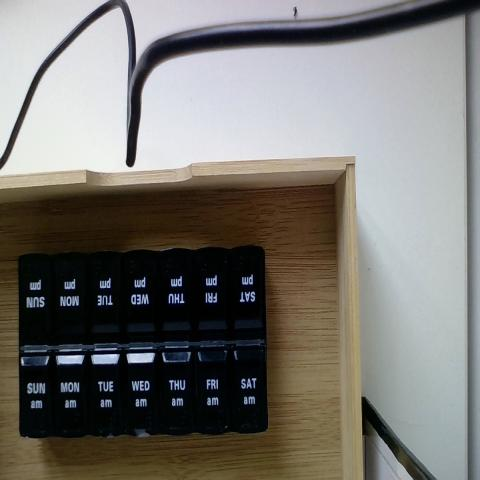FRI-am: (199, 348, 233, 436)
FRI-pm: (200, 258, 236, 343)
MON-am: (60, 345, 94, 436)
MON-pm: (61, 252, 99, 336)
SAT-am: (234, 346, 271, 434)
SAT-pm: (234, 249, 270, 341)
SUN-am: (26, 338, 60, 436)
SUN-pm: (26, 252, 62, 336)
THU-am: (165, 343, 198, 436), (97, 346, 127, 435)
THU-pm: (162, 256, 198, 344)
TUE-pm: (98, 254, 133, 337)
WED-am: (127, 350, 164, 437)
WED-pm: (130, 253, 165, 344)
